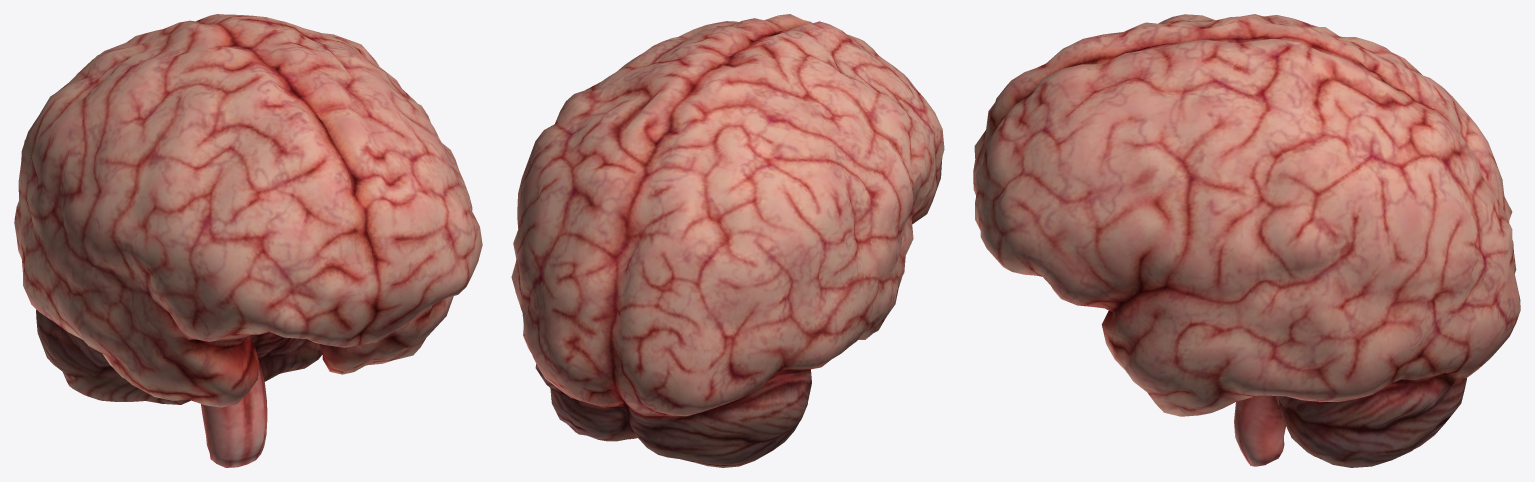
The model's file is cerebro.glb.
3 views of the same model, side by side, from view 1: azimuth 30°, elevation 25°; view 2: azimuth 150°, elevation 25°; view 3: azimuth 270°, elevation 25° (orthographic). The views are drawn at different scales.
Parts seen in each view (by area): view 1: cerebro_1(Clone); view 2: cerebro_1(Clone); view 3: cerebro_1(Clone).
Boxes of the visible parts, bbox=[...] form: cerebro_1(Clone): bbox=[14, 14, 482, 467]; cerebro_1(Clone): bbox=[511, 14, 944, 467]; cerebro_1(Clone): bbox=[973, 14, 1520, 467].
Size of the model in its own units: 1.59 by 1.78 by 2.07.
1 material, 1 textured.
